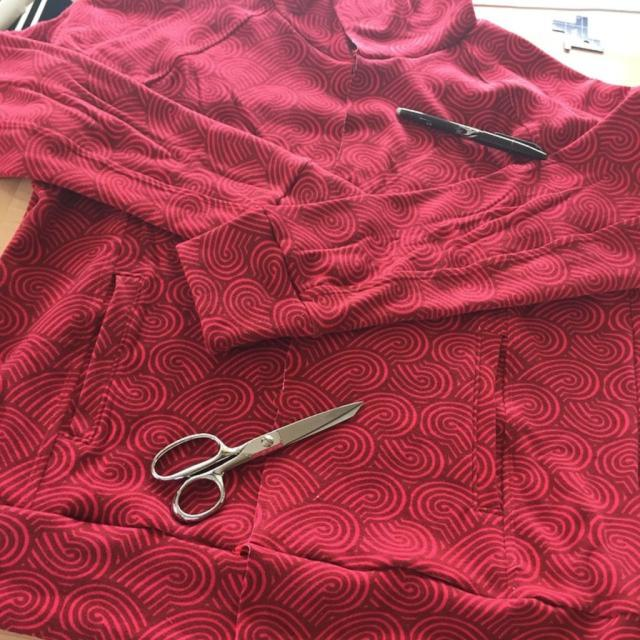scissors: (150, 400, 363, 522)
